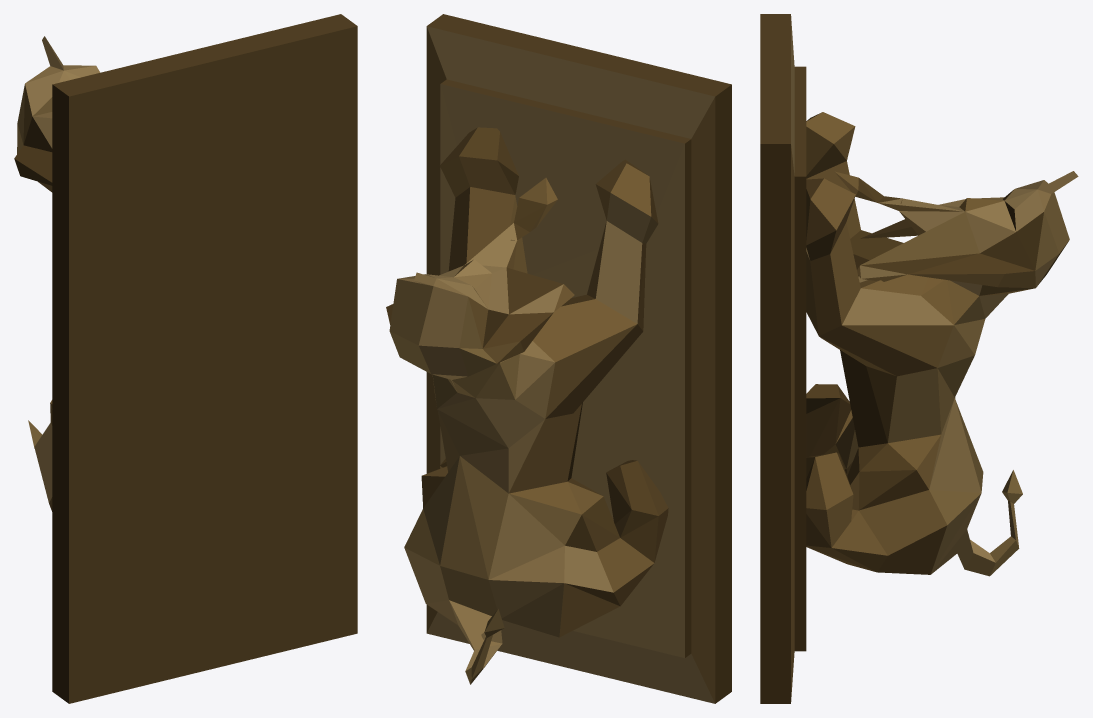
Rendered from desert_statue_1.fbx.
The picture shows the model from 3 angles, left to right: view 1: azimuth 30°, elevation 25°; view 2: azimuth 150°, elevation 25°; view 3: azimuth 270°, elevation 25°; orthographic projection. The views are drawn at different scales.
Visible parts, largest first — view 1: desert_statue_1; view 2: desert_statue_1; view 3: desert_statue_1.
Part boxes in pixels (bbox=[...]): desert_statue_1: bbox=[14, 14, 357, 703]; desert_statue_1: bbox=[386, 14, 731, 703]; desert_statue_1: bbox=[760, 14, 1078, 703].
Bounding box in the file's own units: 267 × 538 × 277.
